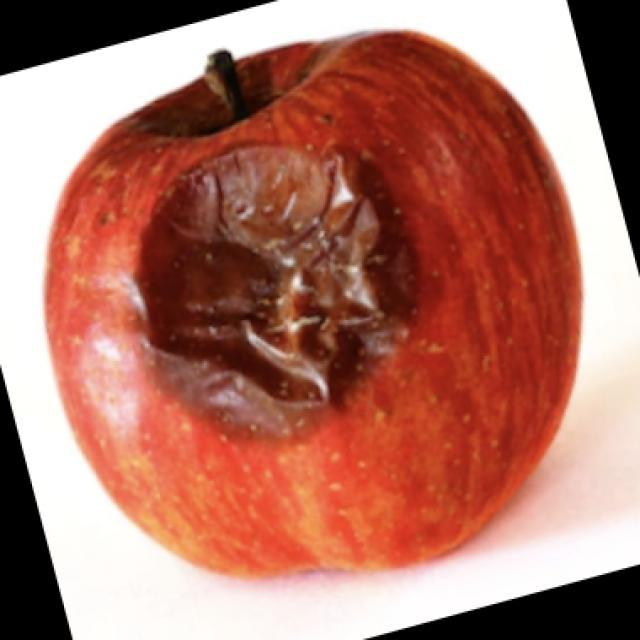Rotten: (78, 45, 587, 570)
